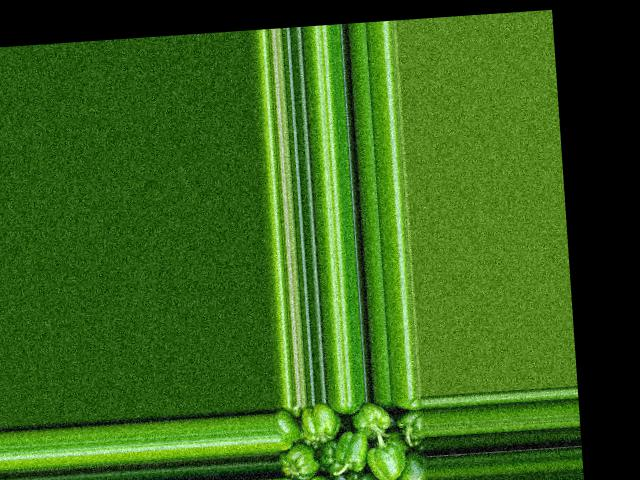bell_pepper: (393, 452, 428, 480)
